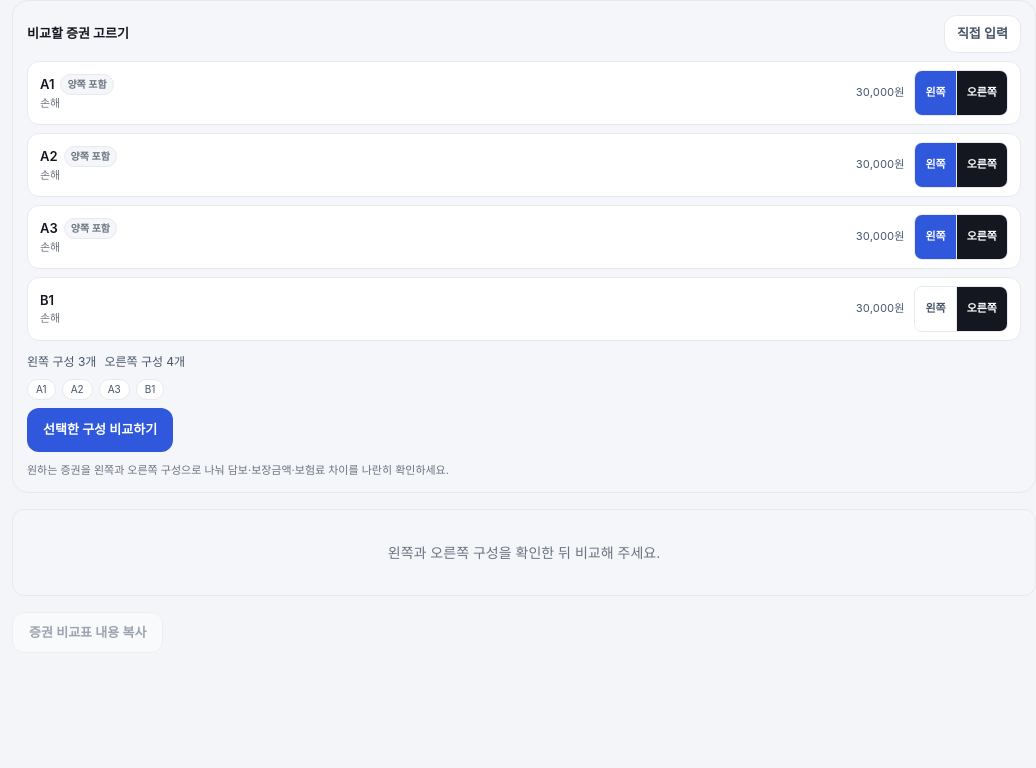
multi-policy overlap selection › announces an in-flight comparison through a polite status region
This screenshot has width=1036, height=768.
Expected: the button with aria-label "A1 왼쪽에서 제외" is shown, [915,70,956,114]
Step 1. Click the button "선택한 구성 비교하기" → point(100, 430), box [27,408,173,452]
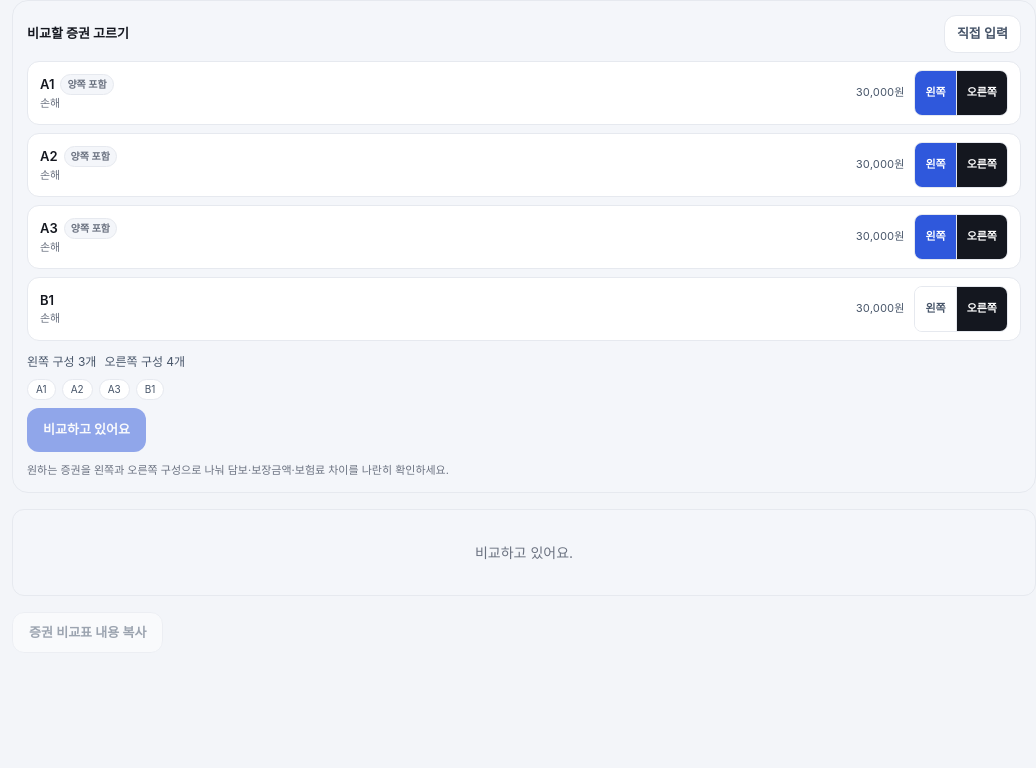
Now the message "비교하고 있어요." is shown, box [12,508,1035,596]
